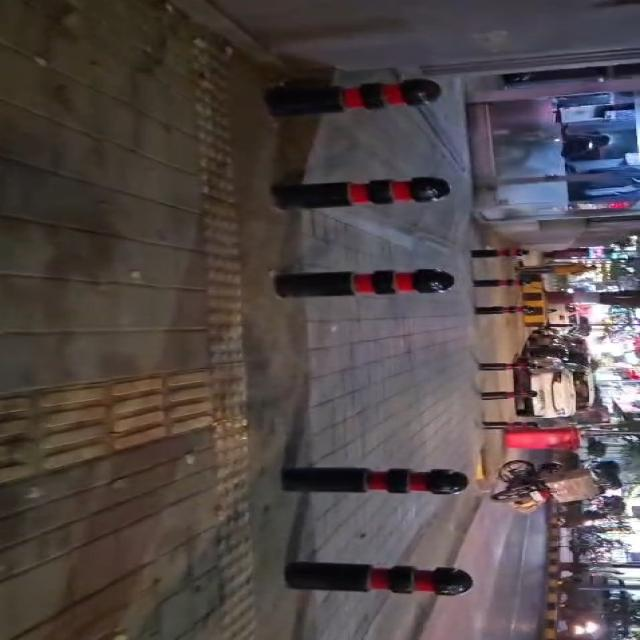obstacle: (264, 79, 441, 117), (286, 562, 472, 595), (272, 177, 451, 209), (275, 269, 455, 297), (282, 468, 468, 494), (505, 427, 581, 451), (472, 248, 528, 258), (483, 421, 538, 430), (476, 306, 534, 314), (481, 391, 536, 399), (478, 363, 530, 371), (473, 279, 523, 287)
